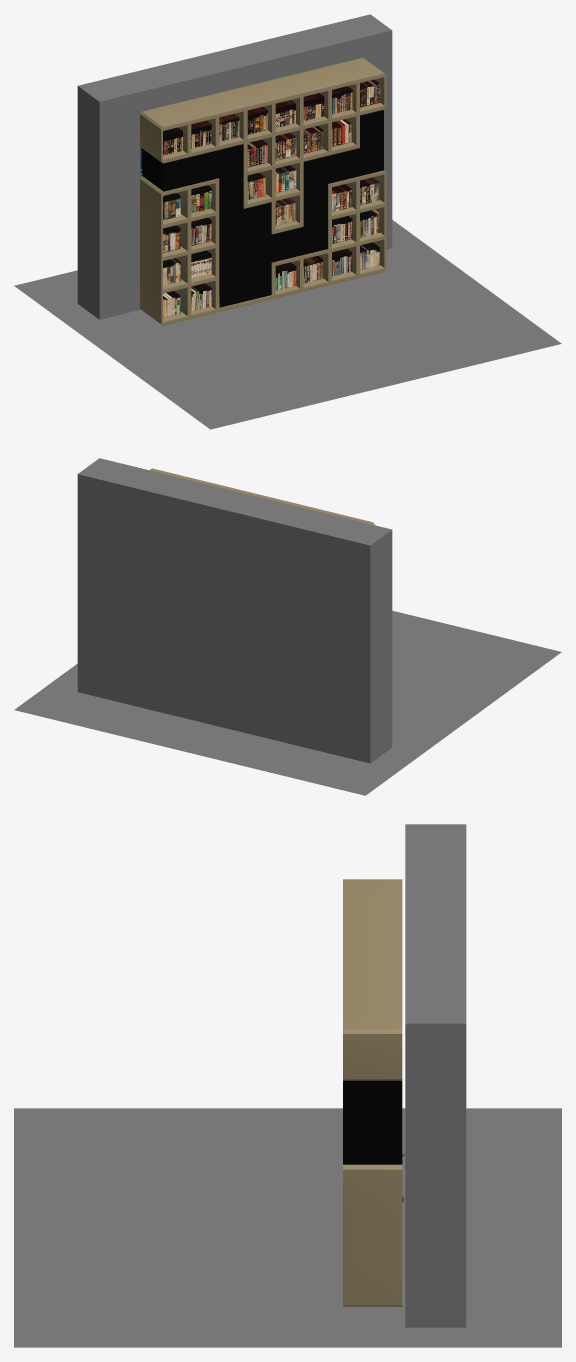
File: Aquarium bookschrank.fbx
3 views of the same model, one above another, from view 1: azimuth 30°, elevation 25°; view 2: azimuth 150°, elevation 25°; view 3: azimuth 270°, elevation 25° (orthographic). The views are drawn at different scales.
Visible parts, largest first — view 1: Plane004, Box001, Plane001, Plane003, Object001; view 2: Box001, Plane004, Plane001; view 3: Plane004, Box001, Plane001, Object001.
Part boxes in pixels (box(x1,y1,x2,y2)): Plane004: box(14, 220, 561, 429); Box001: box(77, 14, 392, 319); Plane001: box(140, 58, 386, 325); Plane003: box(163, 79, 380, 318); Object001: box(142, 110, 383, 307); Box001: box(77, 458, 392, 763); Plane004: box(14, 610, 561, 795); Plane001: box(150, 468, 374, 525); Plane004: box(14, 1108, 561, 1347); Box001: box(405, 824, 466, 1327); Plane001: box(343, 879, 402, 1306); Object001: box(343, 1080, 402, 1164).
Bounding box in the file's own units: 182 × 177 × 108.
Materials: 8 (3 with a texture image).
